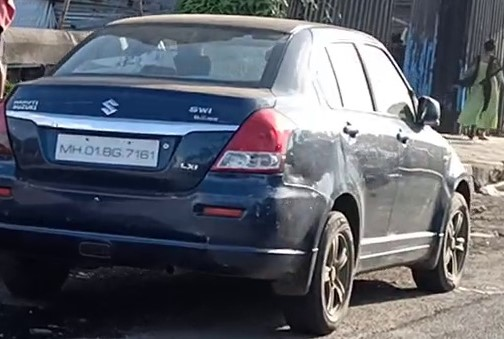MH01BG7161: (55, 131, 160, 169)
